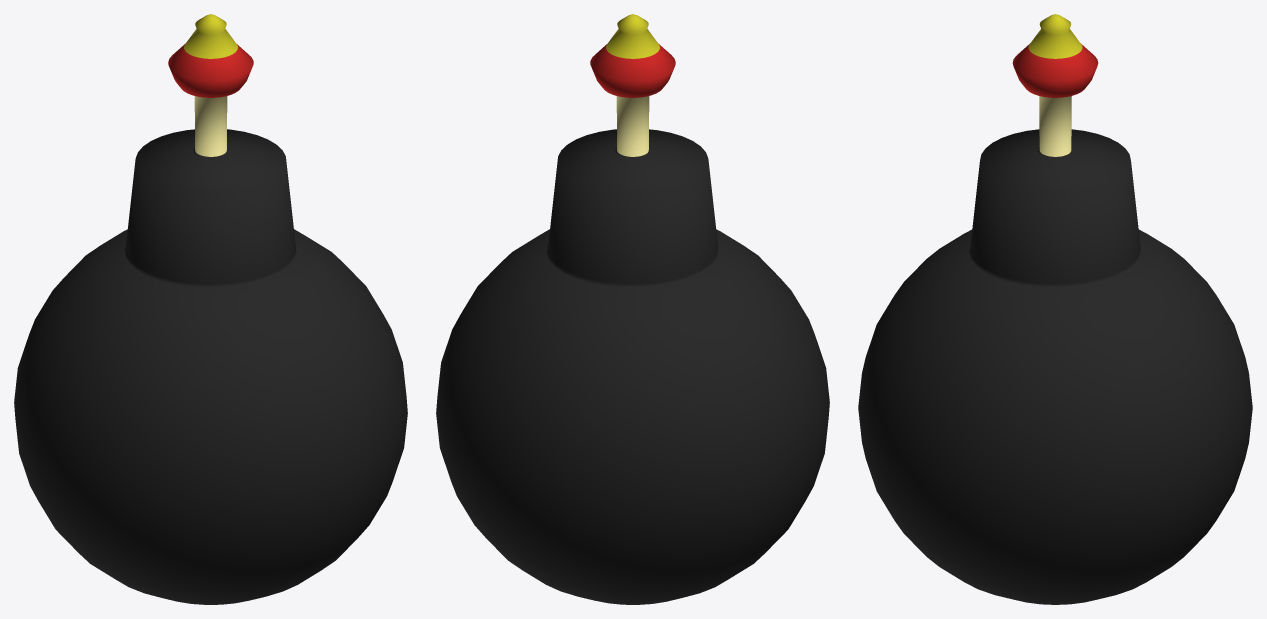
Rendered from bomb.fbx.
3 renders of one model, left to right at view 1: azimuth 30°, elevation 25°; view 2: azimuth 150°, elevation 25°; view 3: azimuth 270°, elevation 25°, orthographic.
Parts seen in each view (by area): view 1: Sphere; view 2: Sphere; view 3: Sphere.
Part boxes in pixels (x1,y1,x2,y2): Sphere: (14, 14, 407, 604); Sphere: (436, 14, 829, 604); Sphere: (858, 14, 1252, 604).
Bounding box in the file's own units: 200 × 320 × 200.
